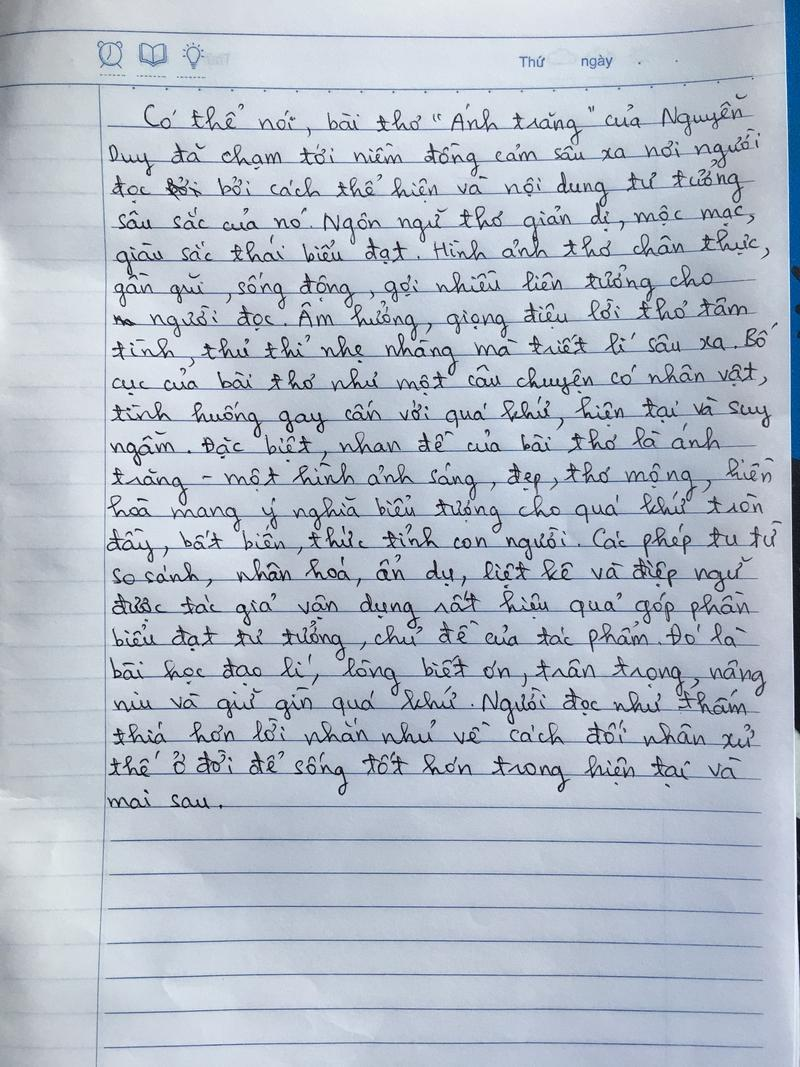text: (108, 319, 782, 379), (110, 223, 777, 280), (140, 88, 751, 149), (103, 124, 765, 180), (105, 455, 779, 509), (105, 154, 747, 209), (109, 196, 751, 249), (108, 746, 742, 799), (100, 518, 786, 566), (105, 651, 771, 699), (103, 485, 769, 532), (108, 259, 716, 310), (108, 292, 754, 340), (106, 394, 778, 440), (103, 420, 725, 469), (103, 356, 772, 400), (108, 621, 750, 666), (106, 589, 753, 632), (103, 685, 752, 725), (110, 715, 759, 755), (106, 553, 761, 592), (105, 786, 225, 812), (578, 52, 619, 70), (516, 52, 547, 72), (172, 895, 172, 897)
